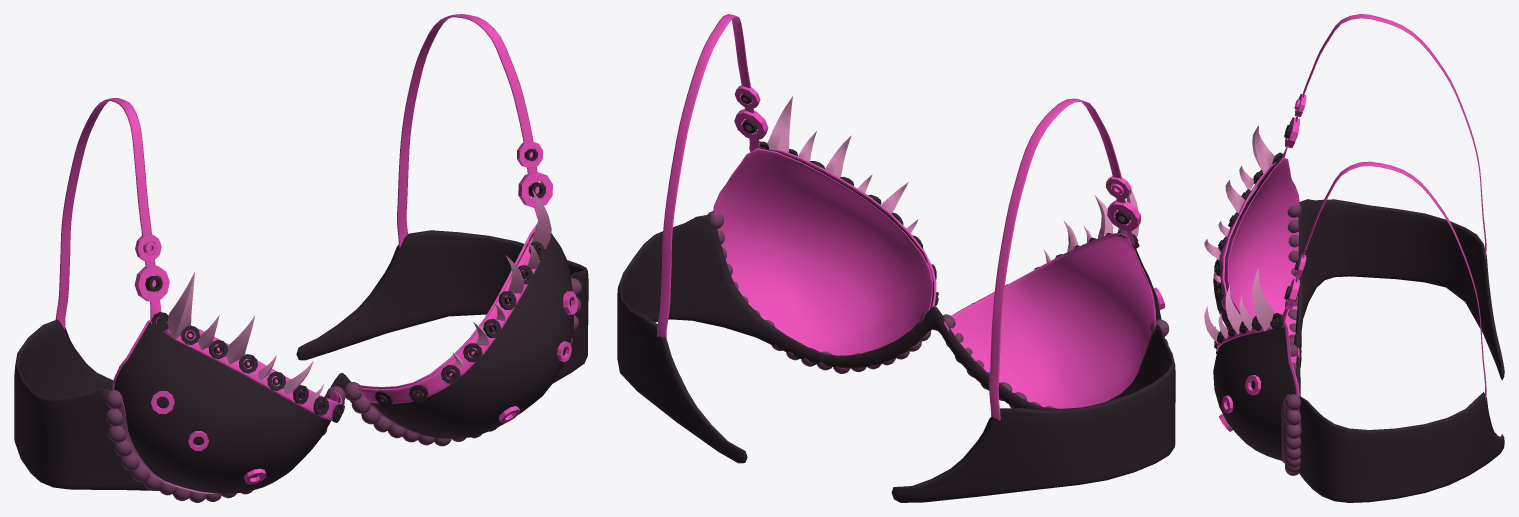
File: BRA .fbx
3 renders of one model, left to right at view 1: azimuth 30°, elevation 25°; view 2: azimuth 150°, elevation 25°; view 3: azimuth 270°, elevation 25°, orthographic. The views are drawn at different scales.
Visible parts, largest first — view 1: polySurface368; view 2: polySurface368; view 3: polySurface368.
Part boxes in pixels (x1=…): polySurface368: x1=14, y1=14, x2=588, y2=502; polySurface368: x1=617, y1=14, x2=1175, y2=502; polySurface368: x1=1204, y1=14, x2=1504, y2=502.
Bounding box in the file's own units: 234 × 155 × 130.
